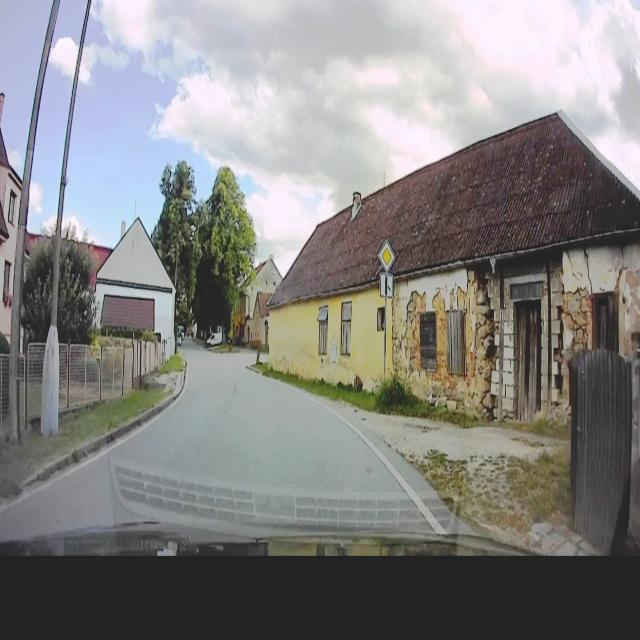Priority road: (375, 236, 396, 272)
